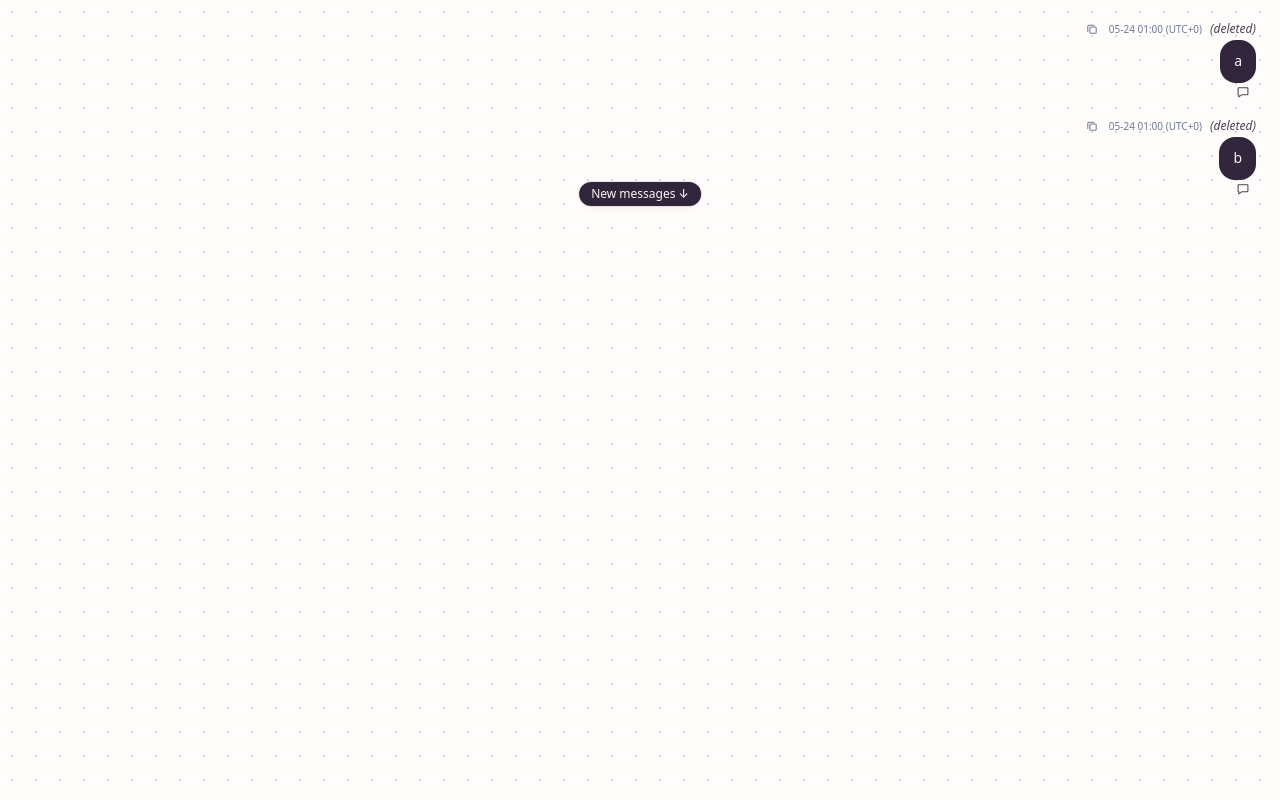
Test case: MessageList › clicking the "New messages" pill scrolls to bottom + dismisses the pill
Click the button with test id "message-list-new-pill" at (640, 194), box x1=579 y1=182 x2=701 y2=206
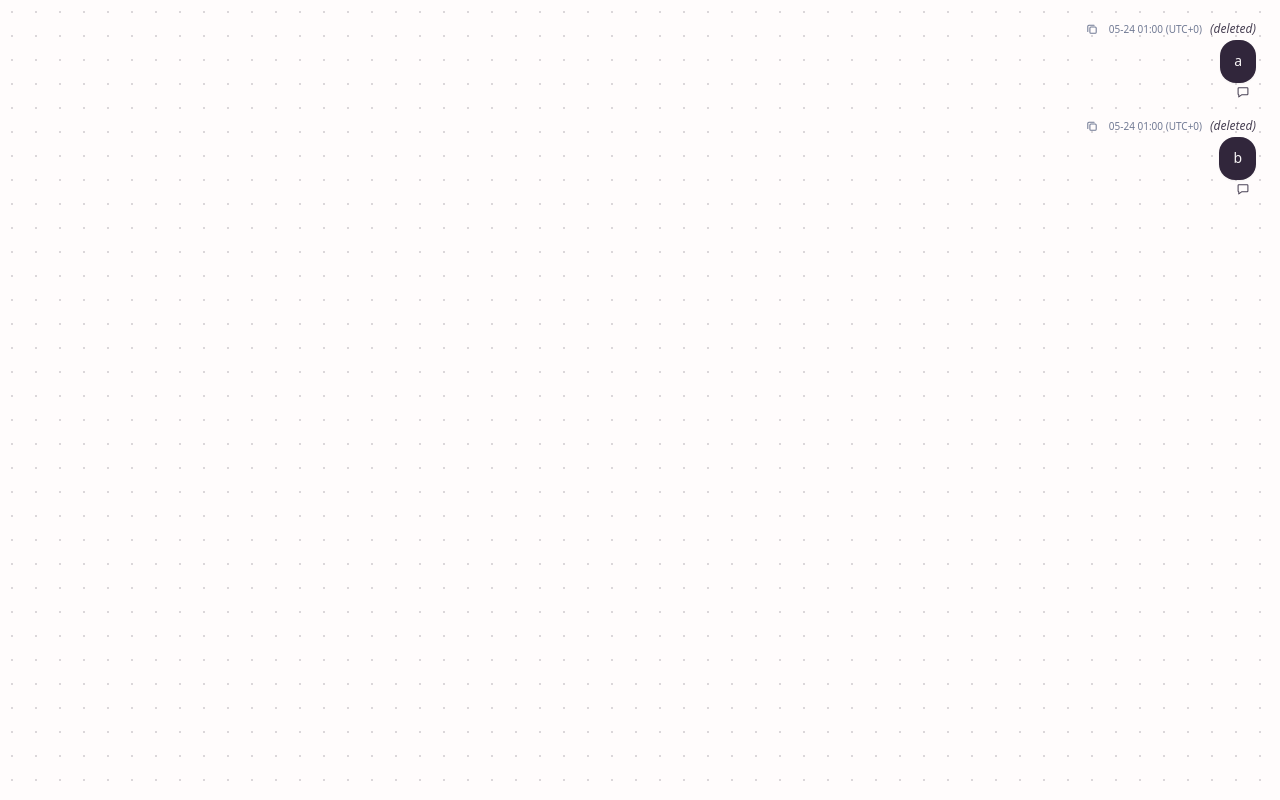
Check: the button with test id "message-list-new-pill" is gone
